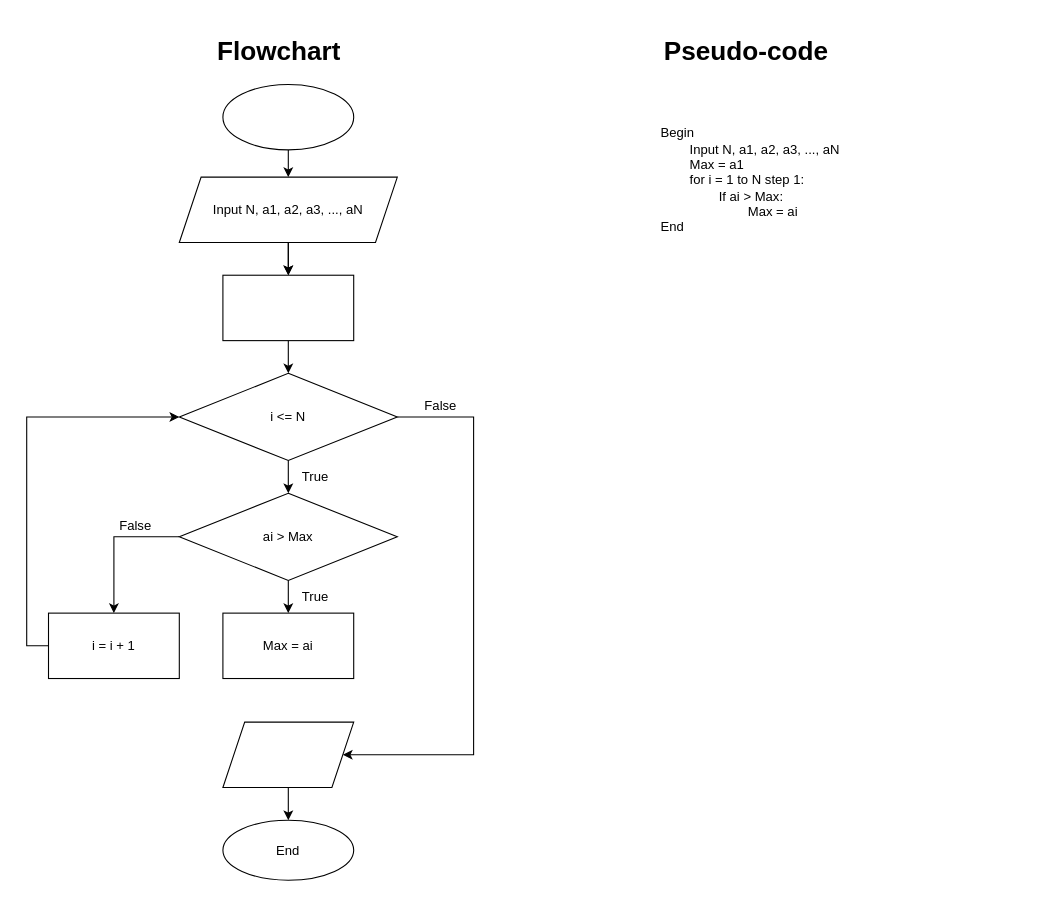
Some shapes in this 1038 by 899 pixel diagram are drawn without their labels. The box of each missing label's shape, as (x1, y1, x2, y2) in pixels:
Begin: (222, 83, 354, 150)
Display Max: (222, 721, 354, 788)
Max = a1 i = 1: (222, 274, 354, 341)
